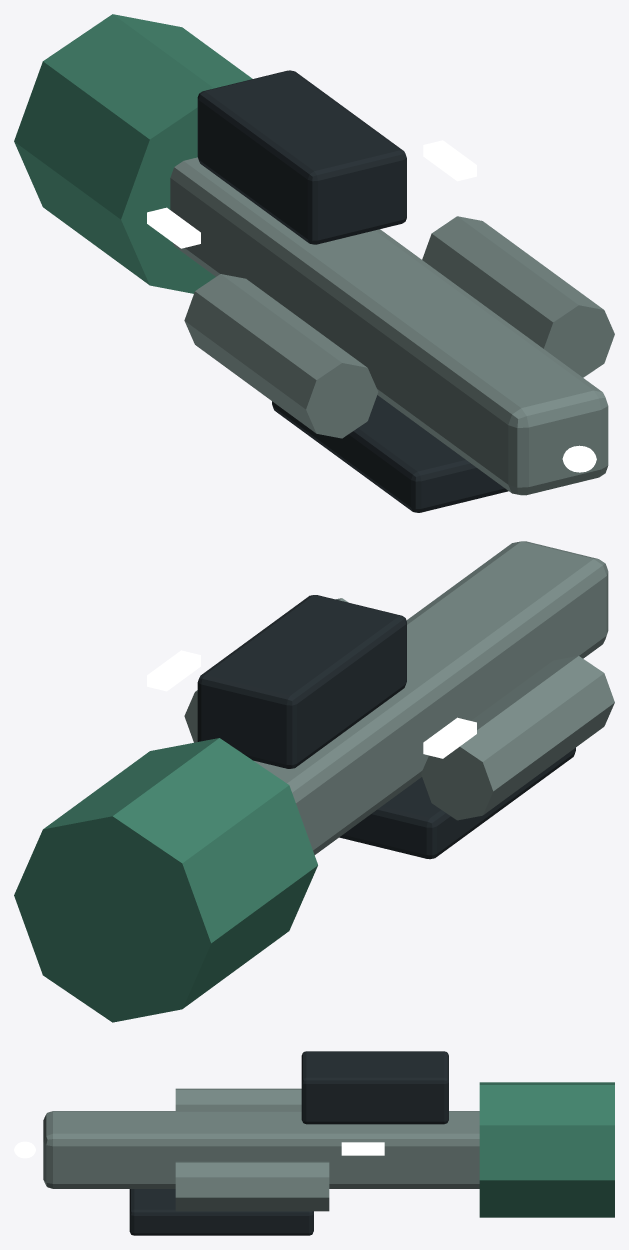
The picture shows the model from 3 angles, top to bottom: view 1: azimuth 30°, elevation 25°; view 2: azimuth 150°, elevation 25°; view 3: azimuth 270°, elevation 25°; orthographic projection. The views are drawn at different scales.
Visible parts, largest first — view 1: RIMWARD_HULL, RIMWARD_EMISSIVE, RIMWARD_ENGINE_GLOW; view 2: RIMWARD_HULL, RIMWARD_EMISSIVE; view 3: RIMWARD_HULL, RIMWARD_EMISSIVE, RIMWARD_ENGINE_GLOW.
Boxes of the visible parts, x1,y1,x2,y2 form: RIMWARD_HULL: (14,14,614,512); RIMWARD_EMISSIVE: (147,140,476,248); RIMWARD_ENGINE_GLOW: (562,445,596,472); RIMWARD_HULL: (14,541,614,1022); RIMWARD_EMISSIVE: (147,650,476,758); RIMWARD_HULL: (43,1051,614,1235); RIMWARD_EMISSIVE: (341,1142,384,1155); RIMWARD_ENGINE_GLOW: (14,1141,35,1158).
Size of the model in its own units: 11.73 by 8.65 by 31.3.
